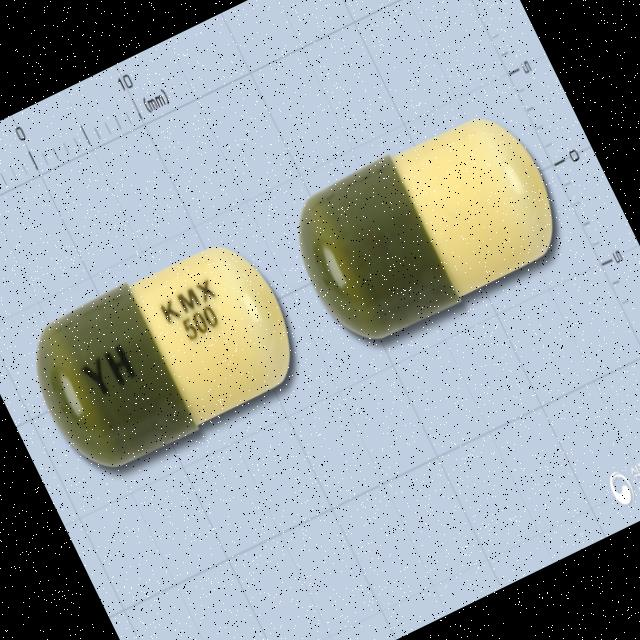Kymoxin Cap-500mg: (14, 227, 314, 486), (277, 99, 577, 358)
